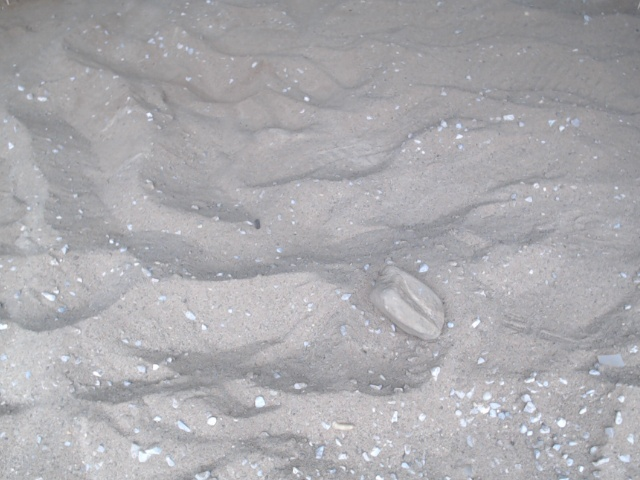rock: (361, 260, 453, 349)
